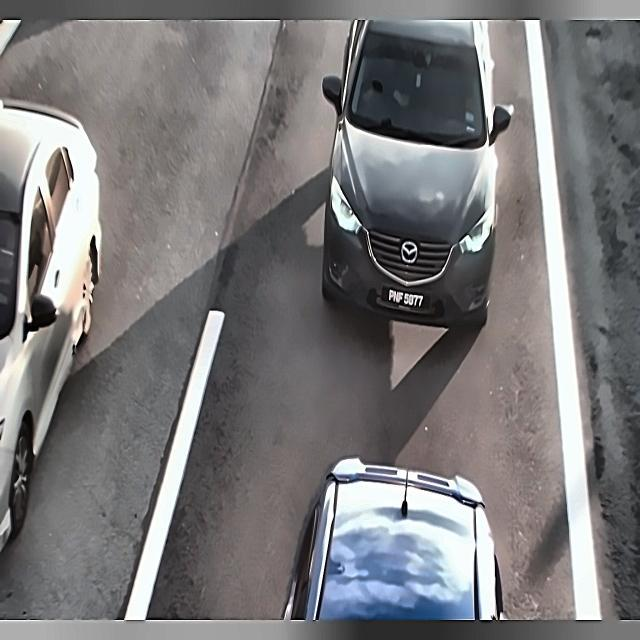car: (380, 280, 436, 319)
